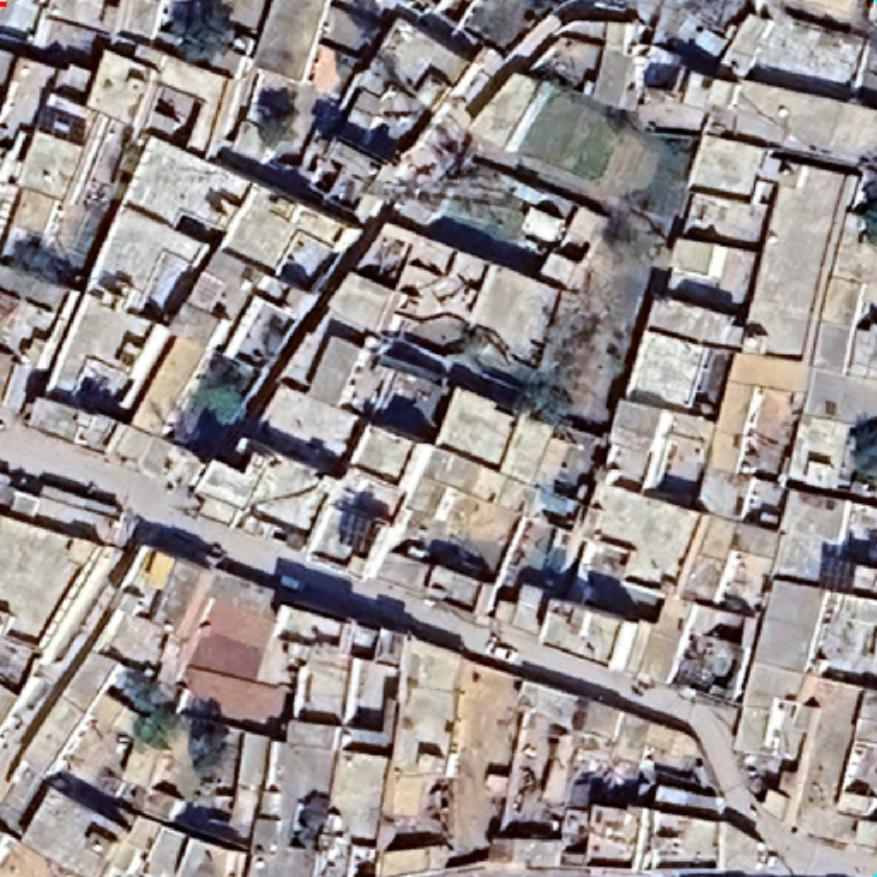Solarpanel: (31, 102, 95, 154), (814, 549, 860, 597), (330, 507, 377, 553)
